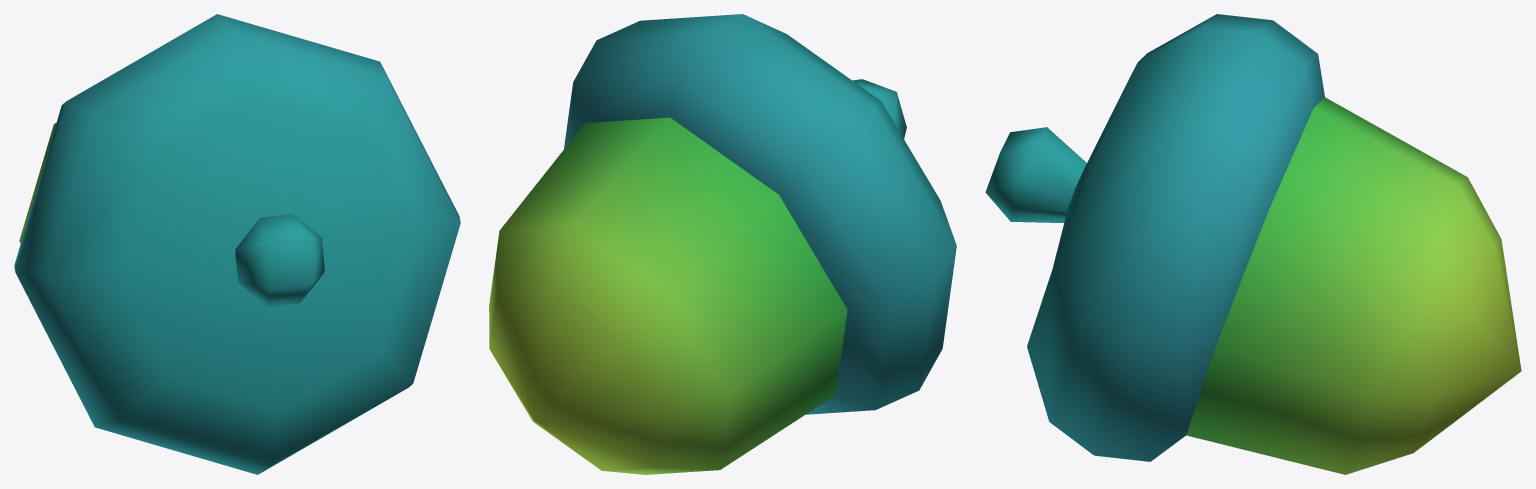
File: SM_Acorn_01.fbx
3 renders of one model, left to right at view 1: azimuth 30°, elevation 25°; view 2: azimuth 150°, elevation 25°; view 3: azimuth 270°, elevation 25°, orthographic. The views are drawn at different scales.
Visible parts, largest first — view 1: SM_Acorn_01; view 2: SM_Acorn_01; view 3: SM_Acorn_01.
Boxes of the visible parts, <box> form: SM_Acorn_01: <box>14,14,460,474</box>; SM_Acorn_01: <box>489,14,956,474</box>; SM_Acorn_01: <box>985,14,1521,474</box>.
Bounding box in the file's own units: 118 × 115 × 131.
